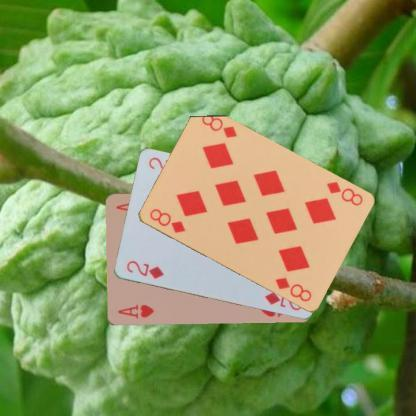2d: (124, 258, 164, 281)
8d: (324, 178, 364, 208), (146, 206, 187, 235)
Ah: (115, 302, 156, 320)
